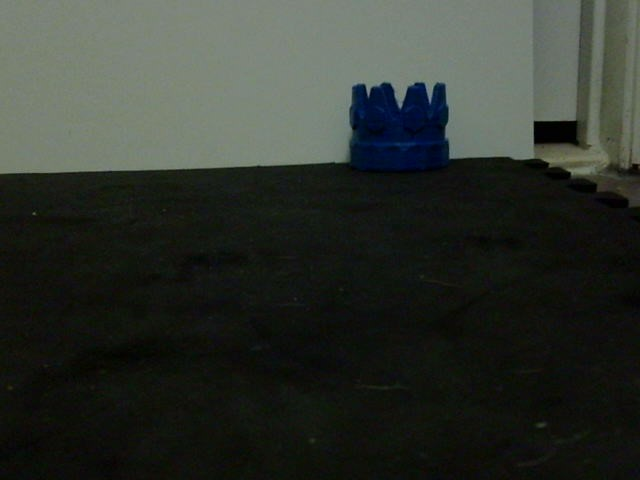crown: (346, 81, 453, 171)
